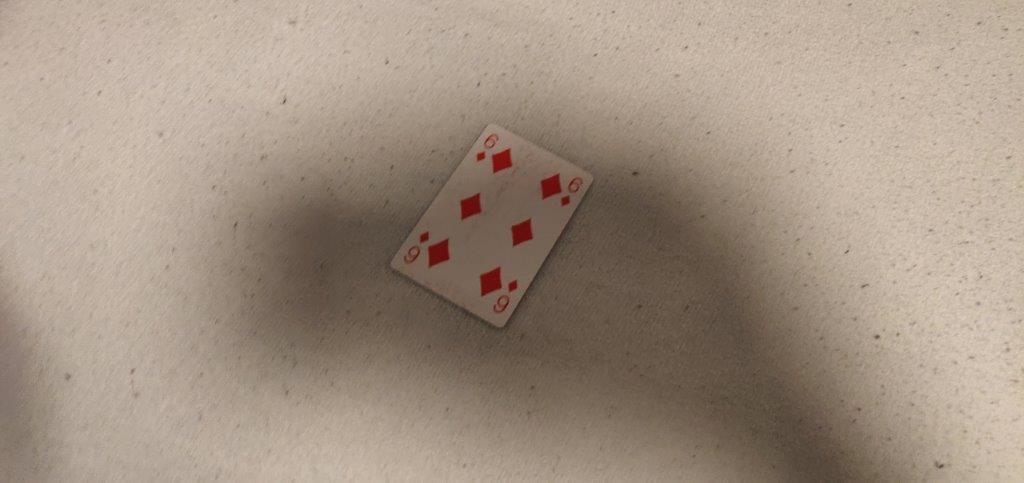6D: (472, 129, 500, 164), (557, 174, 584, 209)
